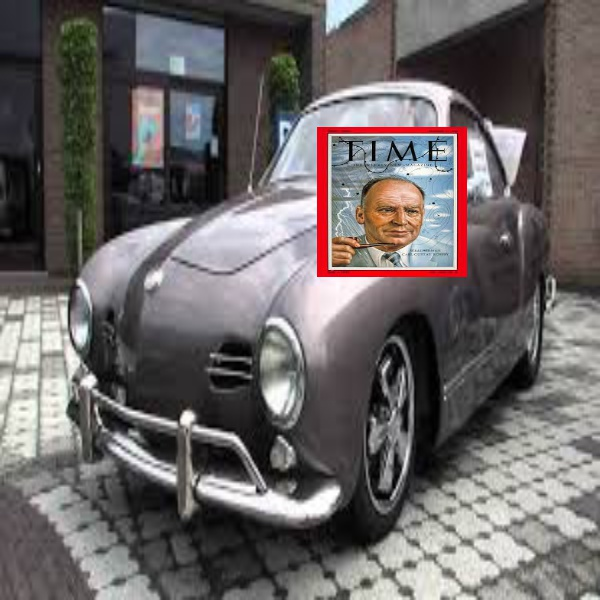time_cover: (318, 117, 469, 282)
